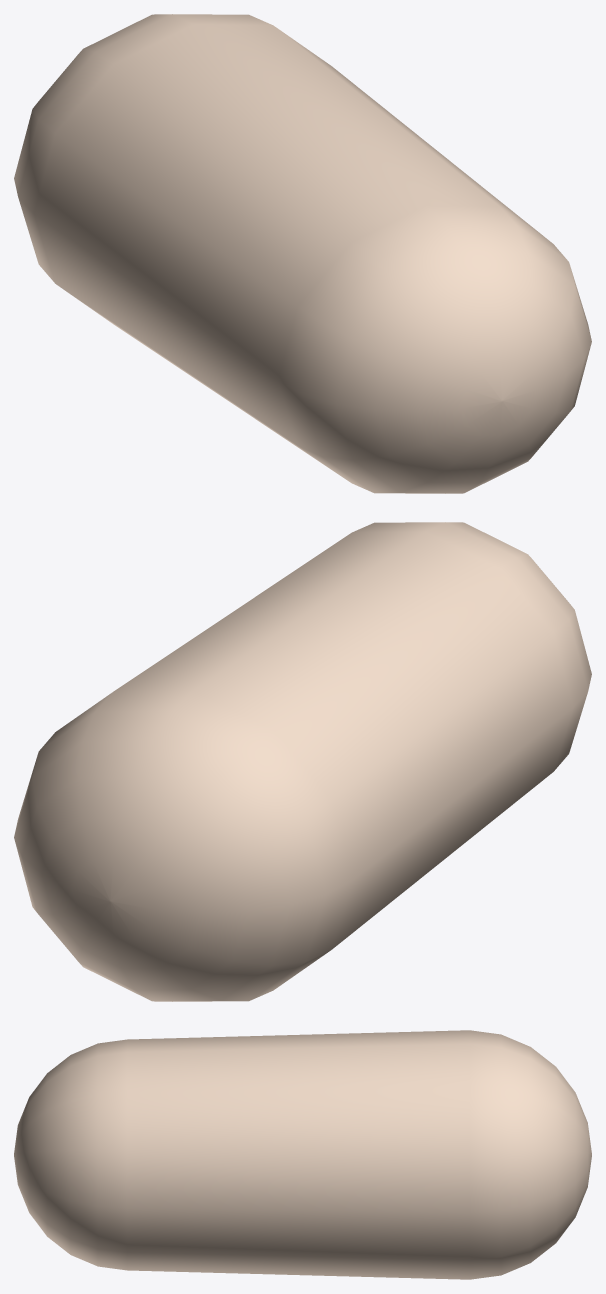
Rendered from thumb_base.fbx.
3 renders of one model, top to bottom at view 1: azimuth 30°, elevation 25°; view 2: azimuth 150°, elevation 25°; view 3: azimuth 270°, elevation 25°, orthographic. The views are drawn at different scales.
Parts seen in each view (by area): view 1: thumb_base; view 2: thumb_base; view 3: thumb_base.
Part boxes in pixels (<box>): thumb_base: <box>14,14,591,493</box>; thumb_base: <box>14,522,591,1001</box>; thumb_base: <box>14,1030,591,1279</box>.
Bounding box in the file's own units: 0.027 × 0.0243 × 0.0574.
